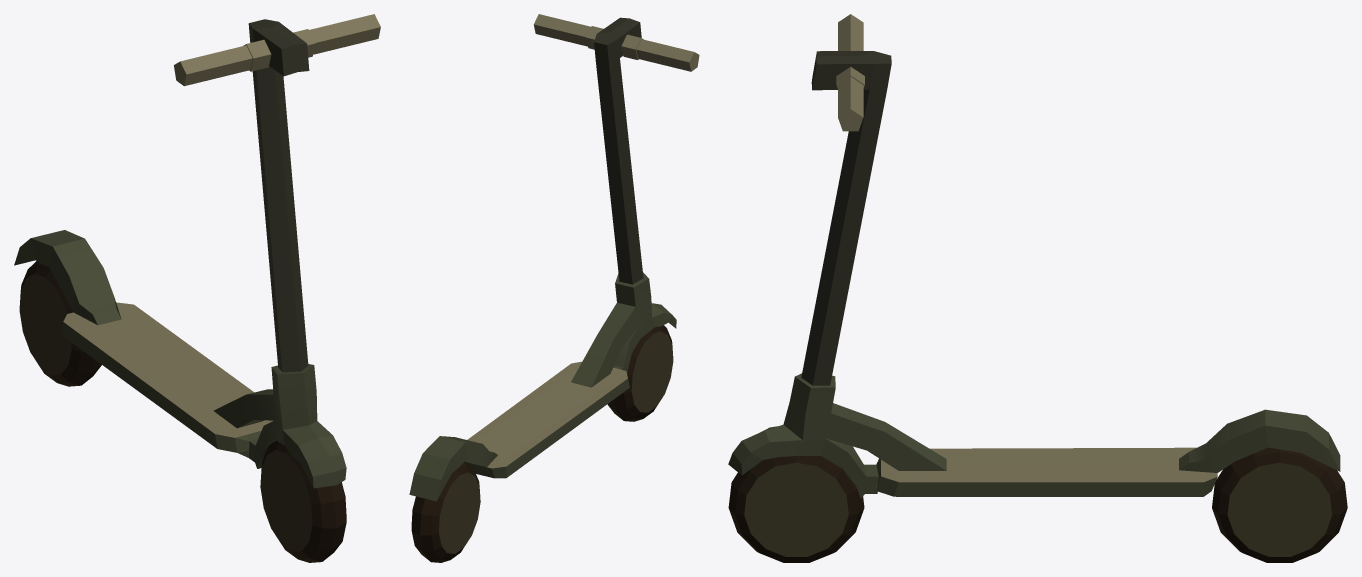
The model's file is electricscooter.fbx.
The picture shows the model from 3 angles, left to right: view 1: azimuth 30°, elevation 25°; view 2: azimuth 150°, elevation 25°; view 3: azimuth 270°, elevation 25°; orthographic projection. The views are drawn at different scales.
Visible parts, largest first — view 1: polySurface5; view 2: polySurface5; view 3: polySurface5.
Boxes of the visible parts, left/top/right/bottom form: polySurface5: left=14, top=14, right=380, bottom=562; polySurface5: left=409, top=14, right=699, bottom=562; polySurface5: left=728, top=14, right=1347, bottom=562.
Bounding box in the file's own units: 3.64 × 9.04 × 10.
